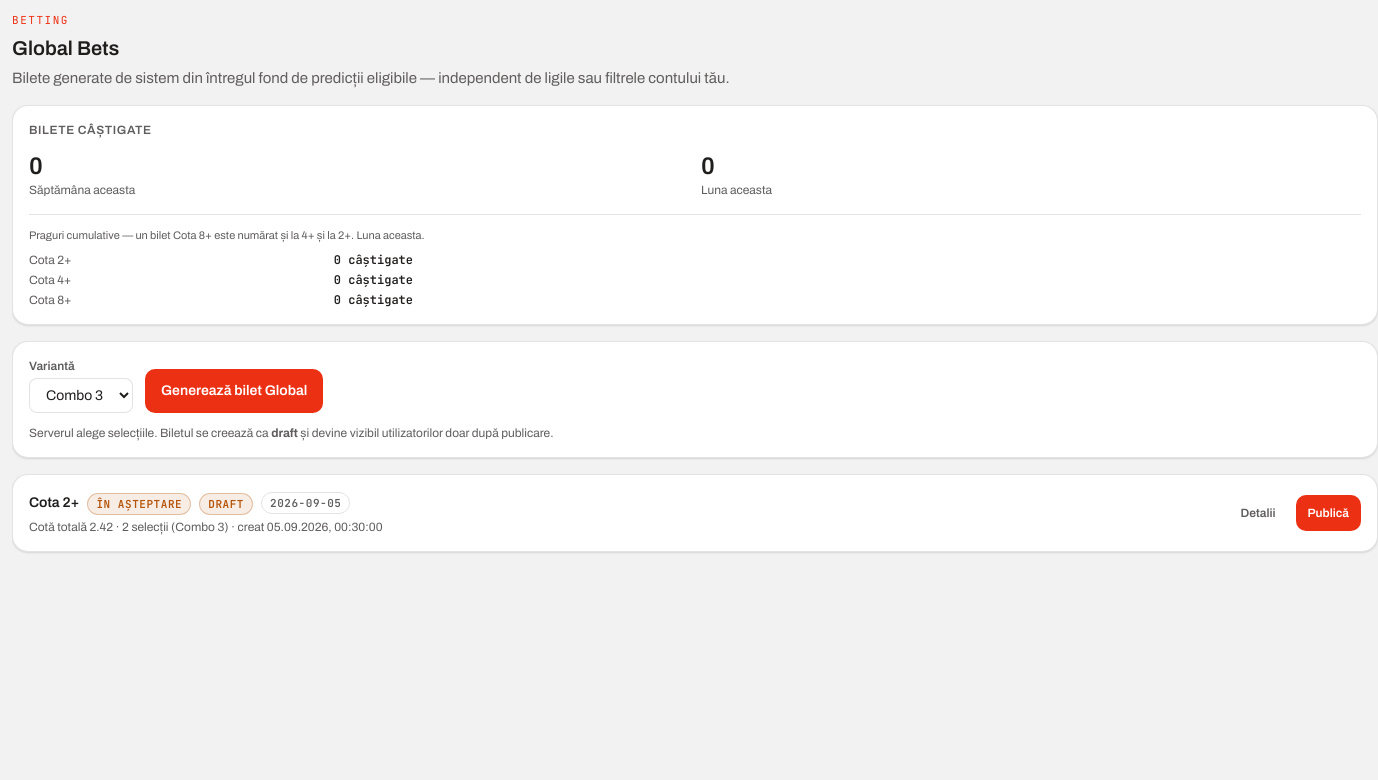
Scenario: publishing › publishes a draft and reports the new visibility
The width and height of the screenshot is (1378, 780).
Click the button "Publică" at [1328, 513], box [1296,495,1361,531]
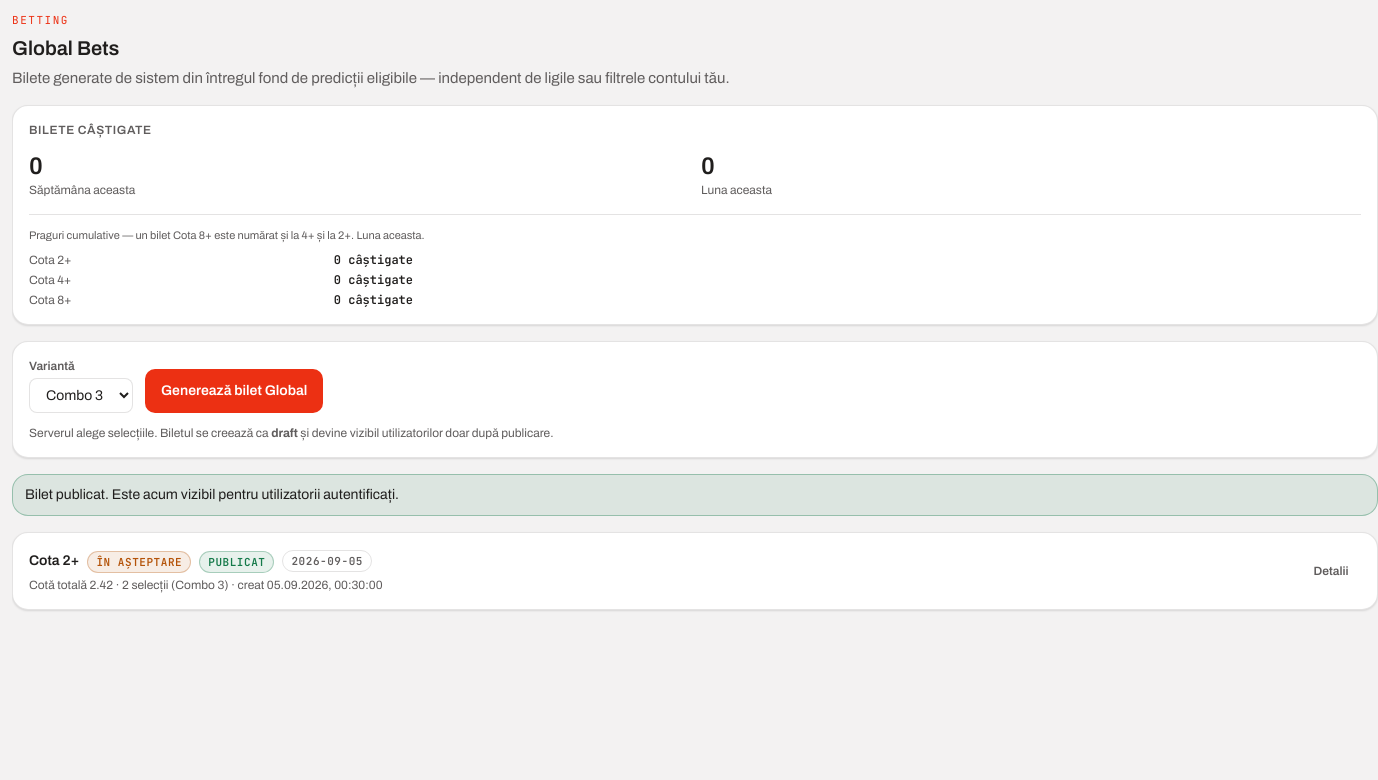
Now the text "vizibil pentru utilizatorii autentificați" is shown, box [25,486,399,502]
